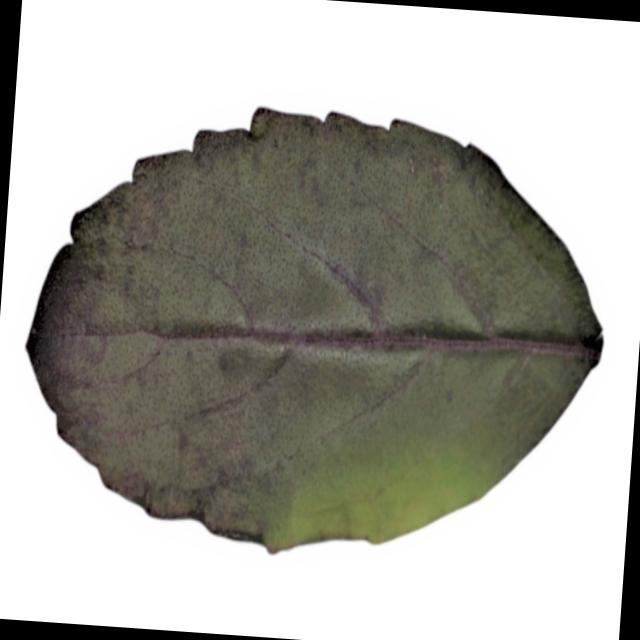tulsi: (9, 82, 623, 578)
